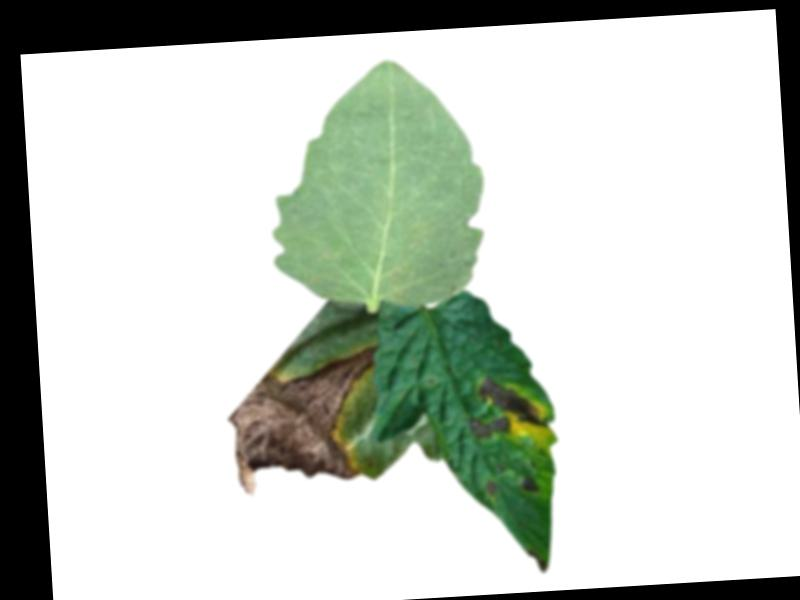Early_blight: (224, 341, 387, 498), (467, 372, 551, 442), (525, 545, 548, 574), (521, 474, 541, 493), (483, 476, 498, 496)
healthy: (260, 55, 492, 316)
